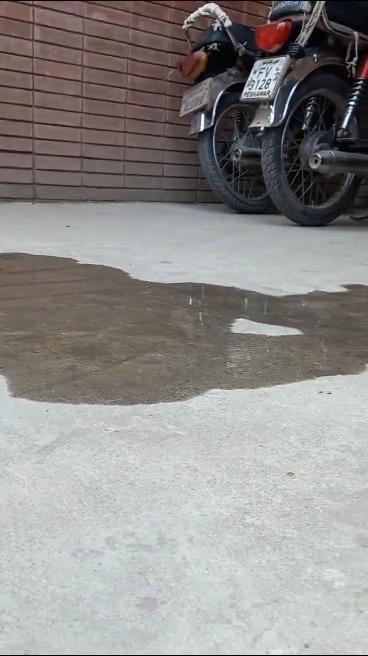water accumulation: (0, 248, 368, 408)
